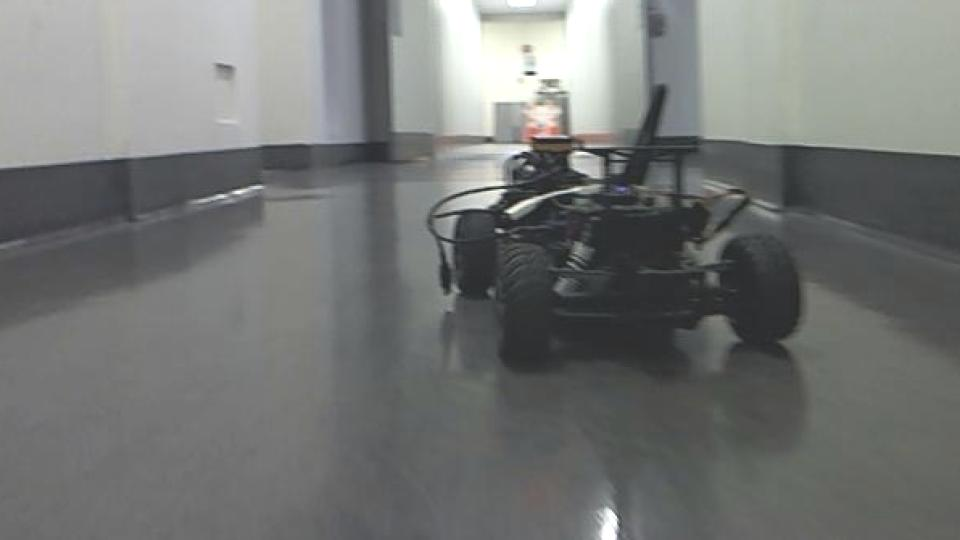car: (425, 82, 809, 367)
